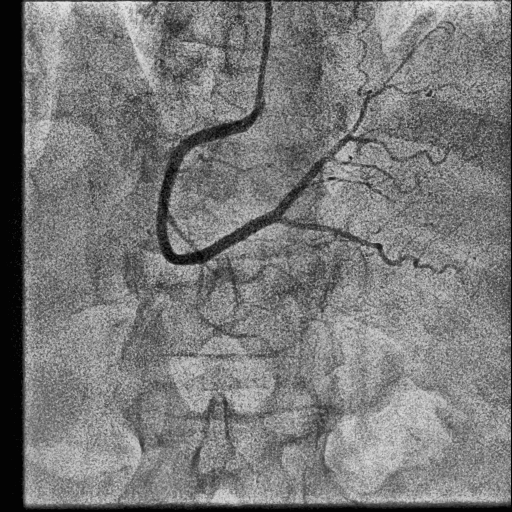pborca: (274, 83, 386, 215)
pda: (279, 215, 457, 274)
rca: (156, 121, 283, 265)
